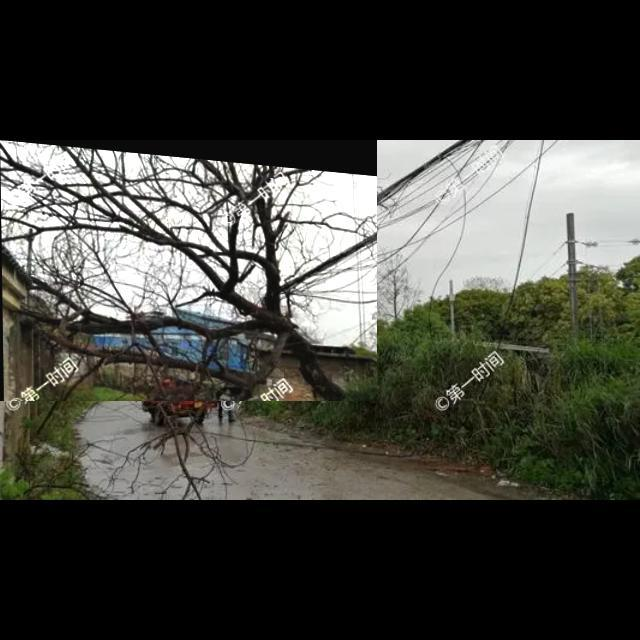fallen_tree: (0, 140, 378, 402)
